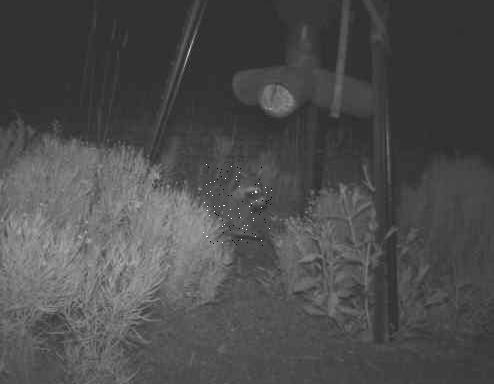Raccoon: (204, 165, 273, 247)
